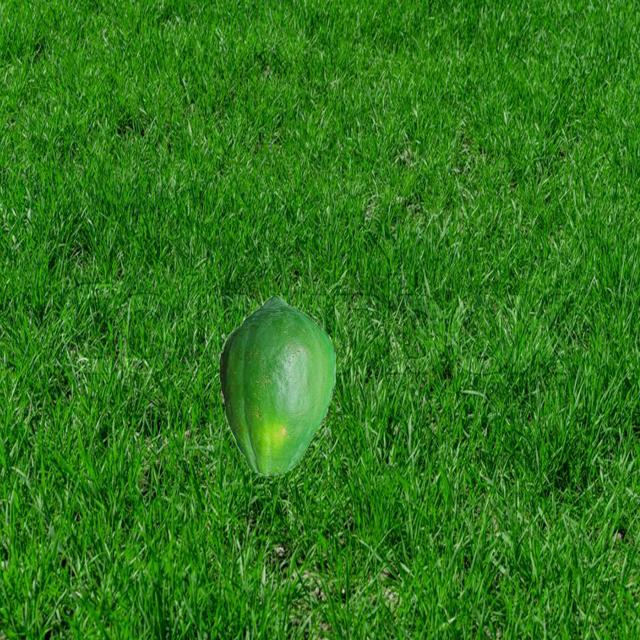Pepaya unrippen: (223, 293, 339, 486)
